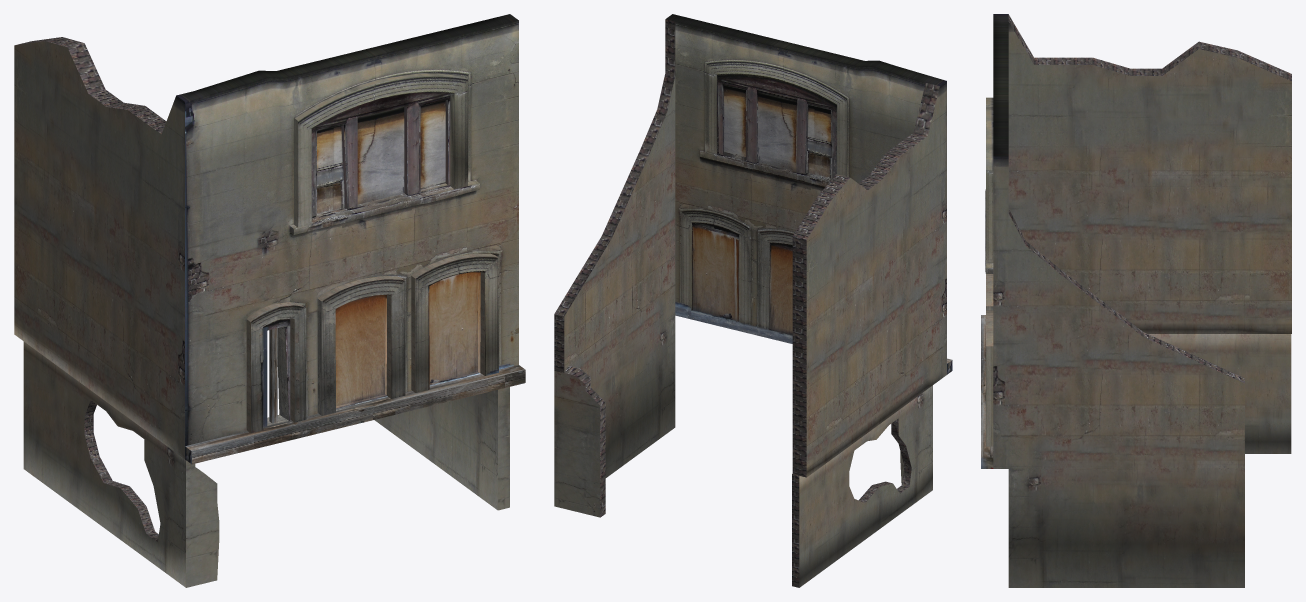
Rendered from war_torn6.obj.
3 renders of one model, left to right at view 1: azimuth 30°, elevation 25°; view 2: azimuth 150°, elevation 25°; view 3: azimuth 270°, elevation 25°, orthographic. The views are drawn at different scales.
Parts seen in each view (by area): view 1: worn_torn6; view 2: worn_torn6; view 3: worn_torn6.
Boxes of the visible parts, box(x1,y1,x2,y2) form: worn_torn6: box(14, 14, 525, 587); worn_torn6: box(554, 14, 952, 587); worn_torn6: box(981, 14, 1291, 587).
Bounding box in the file's own units: 187 × 266 × 172.
1 material, 1 textured.
